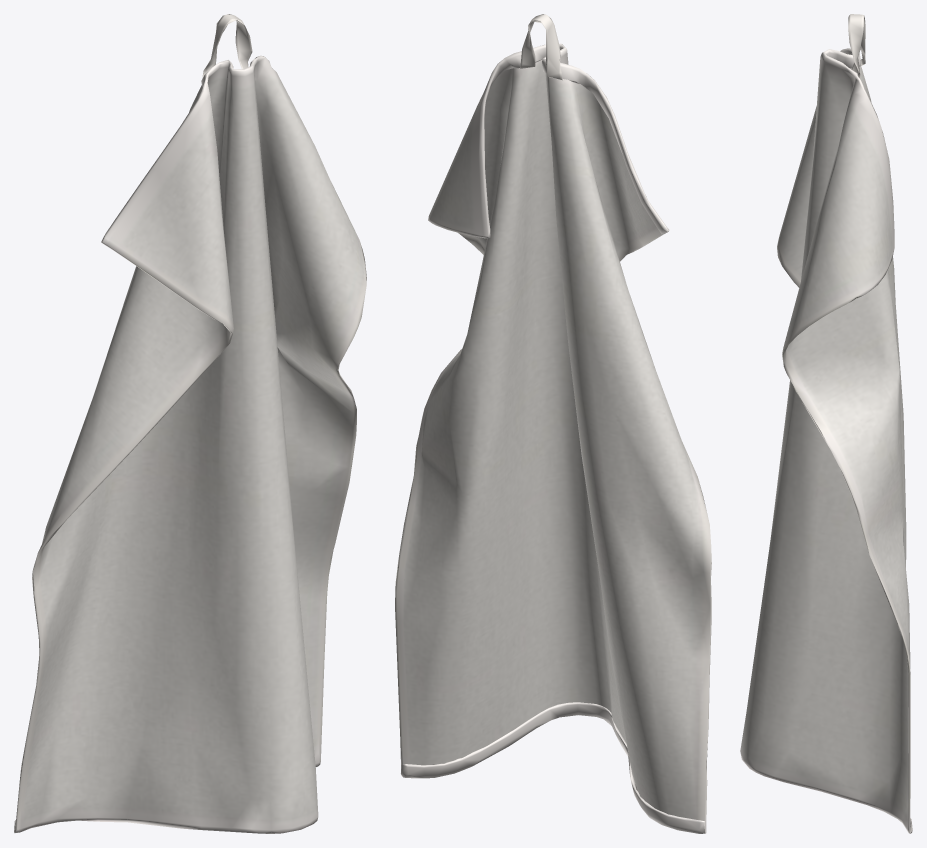
File: luddvial_recznik_do_rak_70579870.glb
The picture shows the model from 3 angles, left to right: view 1: azimuth 30°, elevation 25°; view 2: azimuth 150°, elevation 25°; view 3: azimuth 270°, elevation 25°; orthographic projection. The views are drawn at different scales.
Parts seen in each view (by area): view 1: luddvial_recznik_do_rak_70579870; view 2: luddvial_recznik_do_rak_70579870; view 3: luddvial_recznik_do_rak_70579870.
Part boxes in pixels (x1,y1,x2,y2): luddvial_recznik_do_rak_70579870: (14, 14, 366, 833); luddvial_recznik_do_rak_70579870: (395, 14, 711, 833); luddvial_recznik_do_rak_70579870: (740, 14, 912, 833).
Size of the model in its own units: 0.2721 by 0.649 by 0.1327.
1 material, 1 textured.
